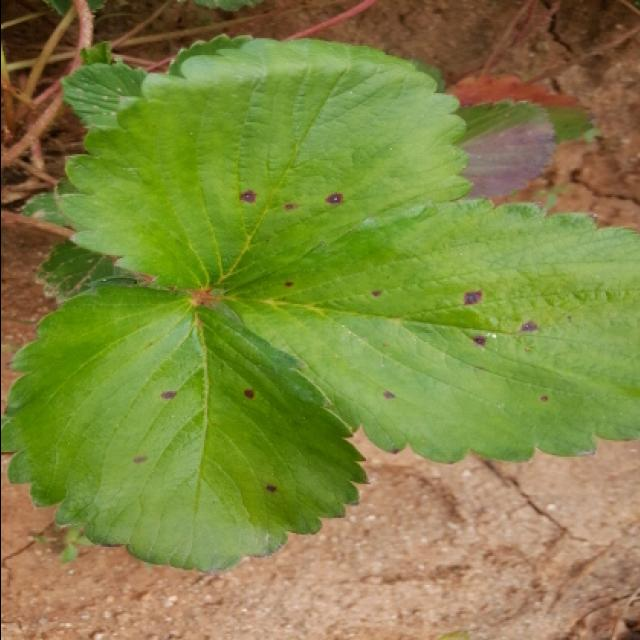Leaf Spot: (202, 196, 640, 464), (2, 275, 369, 575), (53, 35, 472, 295)
